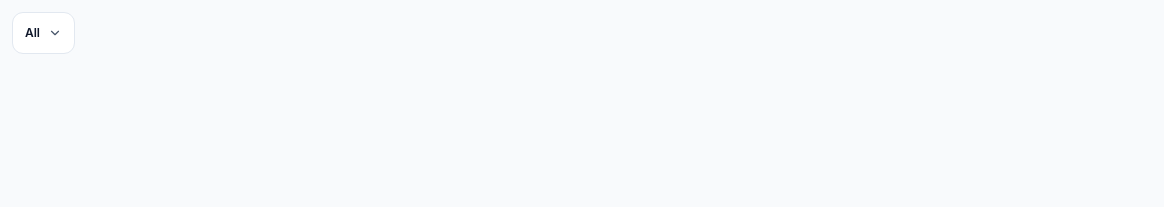
CustomSelect › closes on Escape and on outside click
Click the button "All" at (44, 33), box [12, 12, 75, 54]
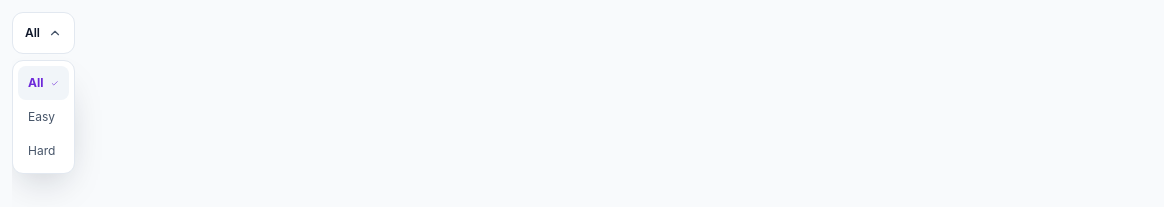
Expected: the list is shown, [12, 60, 75, 174]
Press Escape in the button "All", box [12, 12, 75, 54]
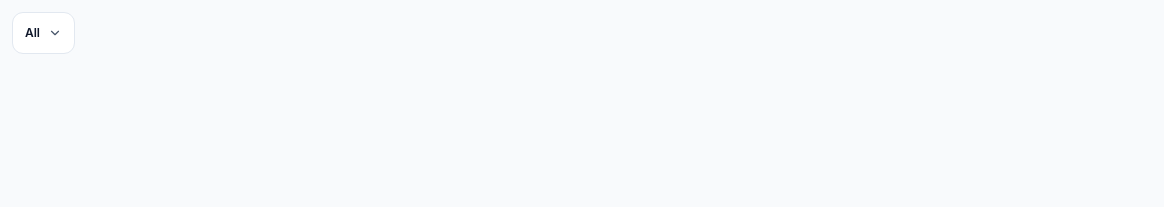
Expected: the list is gone
Click the button "All" at (44, 33), box [12, 12, 75, 54]
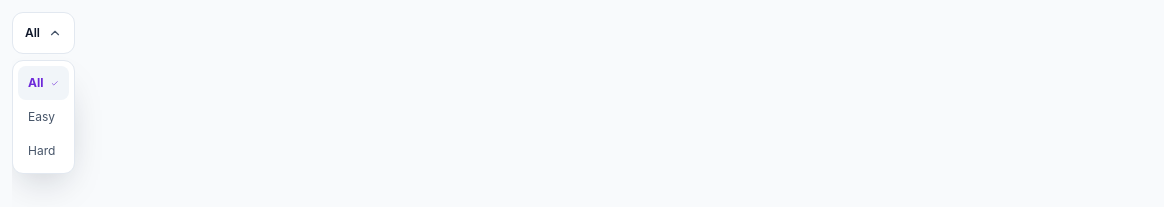
Press the mouse on the element showing "All All Easy Hard" at (588, 33), box [12, 12, 1163, 54]
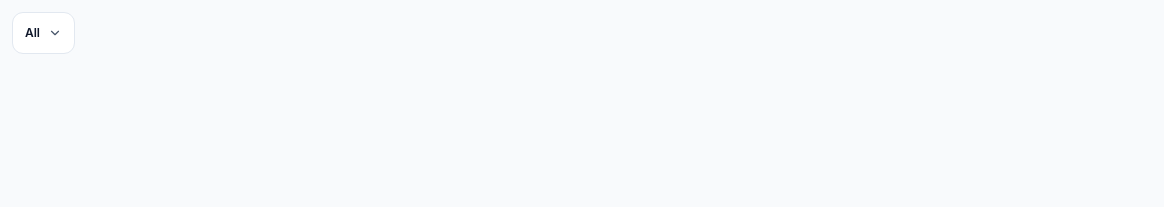
Expected: the list is gone
